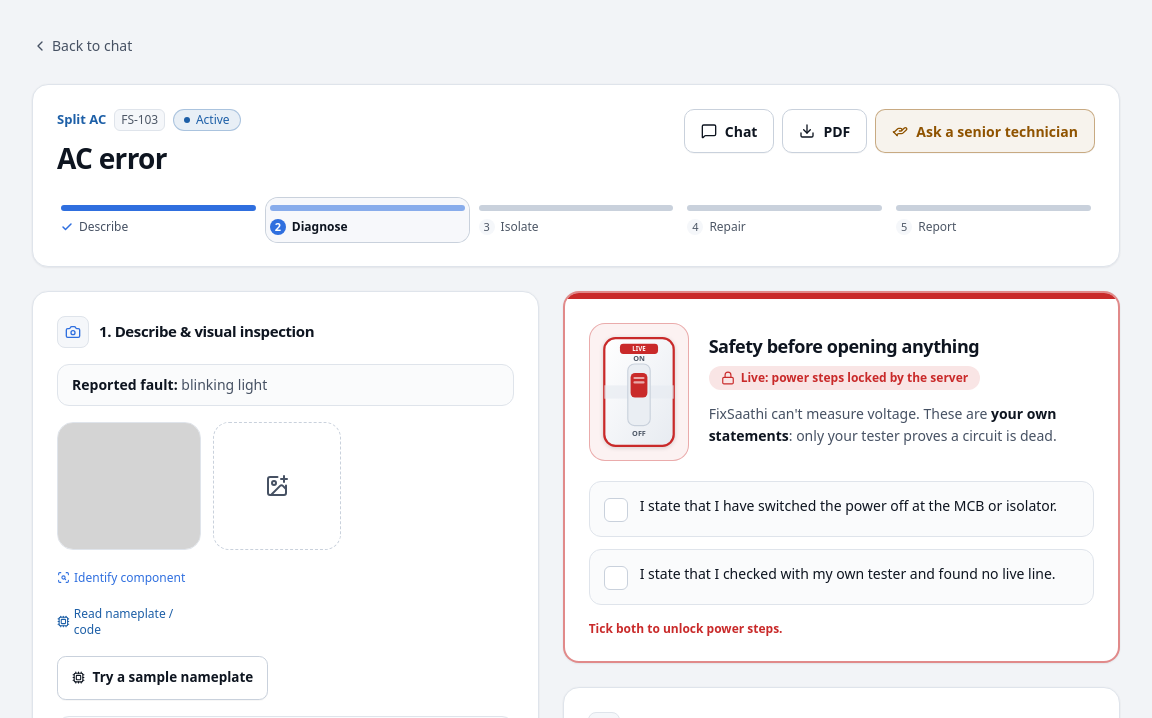
Scenario: Phase 2 UI redesign › shows graceful fallback message and empty manual inputs when Gemini Vision is unavailable
The image size is (1152, 718).
Click the button "Read nameplate / code". click: (129, 622)
box: [57, 600, 201, 644]
(page scrolled)
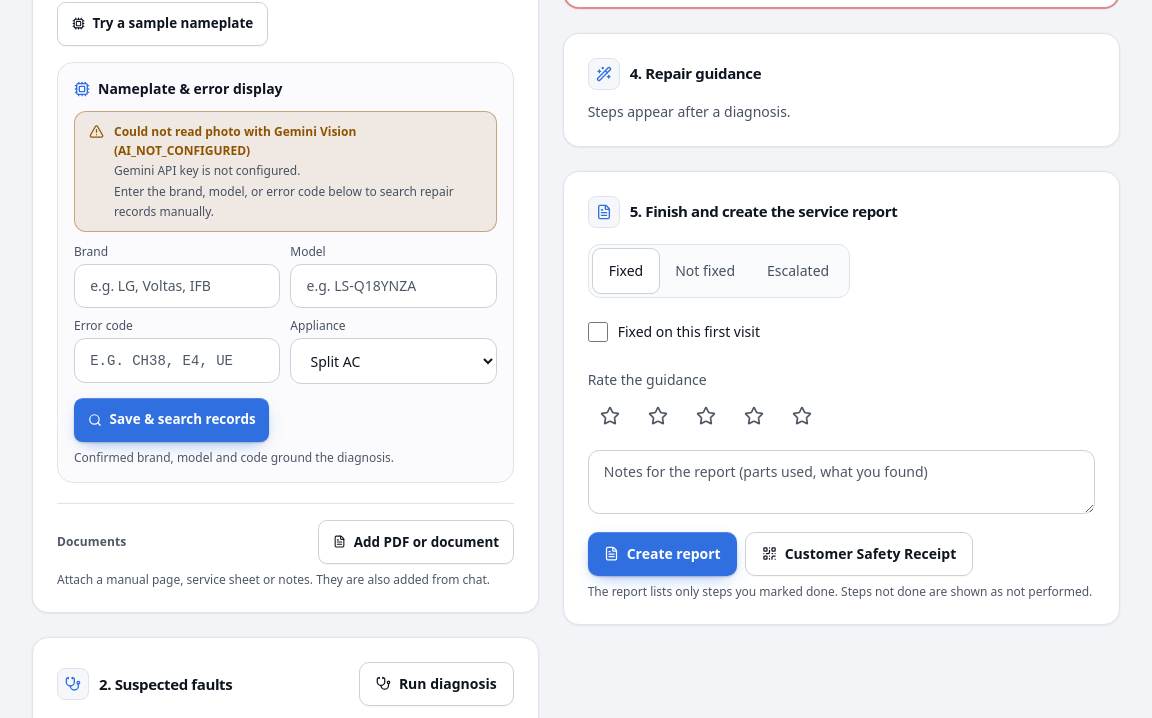
Result: the message shows "AI_NOT_CONFIGURED" at [118, 142, 246, 159]
Result: the field labelled "Brand" is empty at [74, 264, 280, 308]
Result: the field labelled "Error code" is empty at [74, 338, 280, 383]
